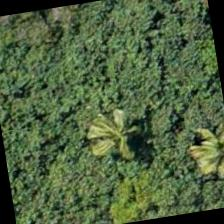Kelapa_Sawit: (65, 95, 168, 198), (168, 99, 223, 198)
